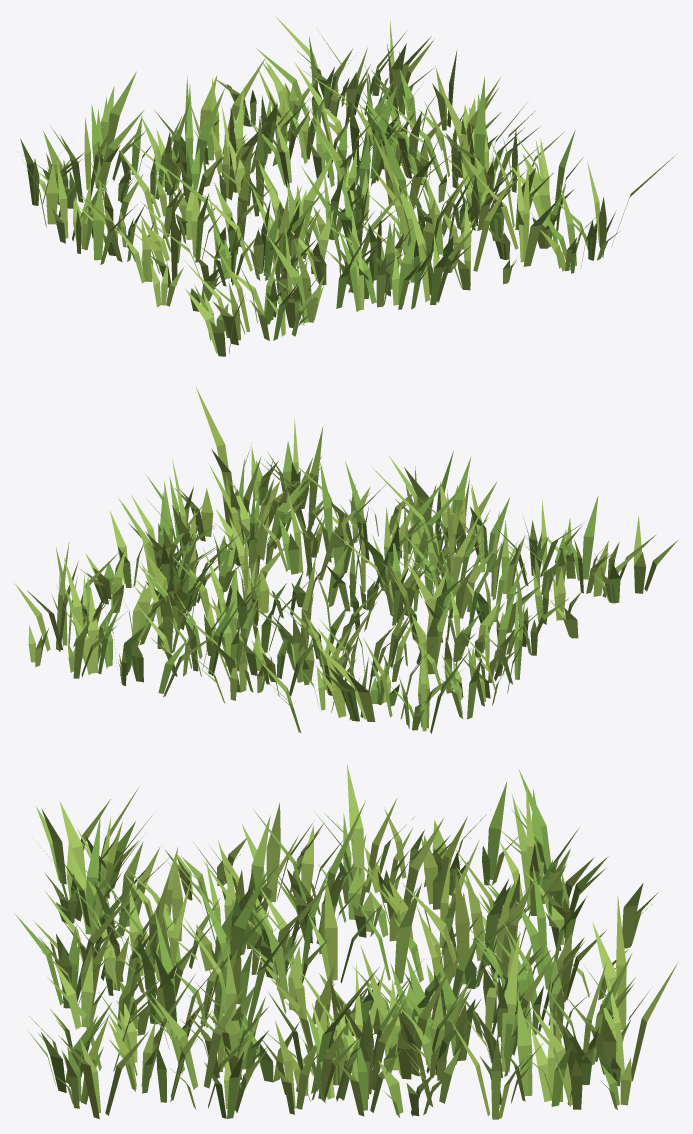
The model's file is grass.glb.
3 views of the same model, one above another, from view 1: azimuth 30°, elevation 25°; view 2: azimuth 150°, elevation 25°; view 3: azimuth 270°, elevation 25° (orthographic). The views are drawn at different scales.
Size of the model in its own units: 2.46 by 0.4904 by 2.43.
